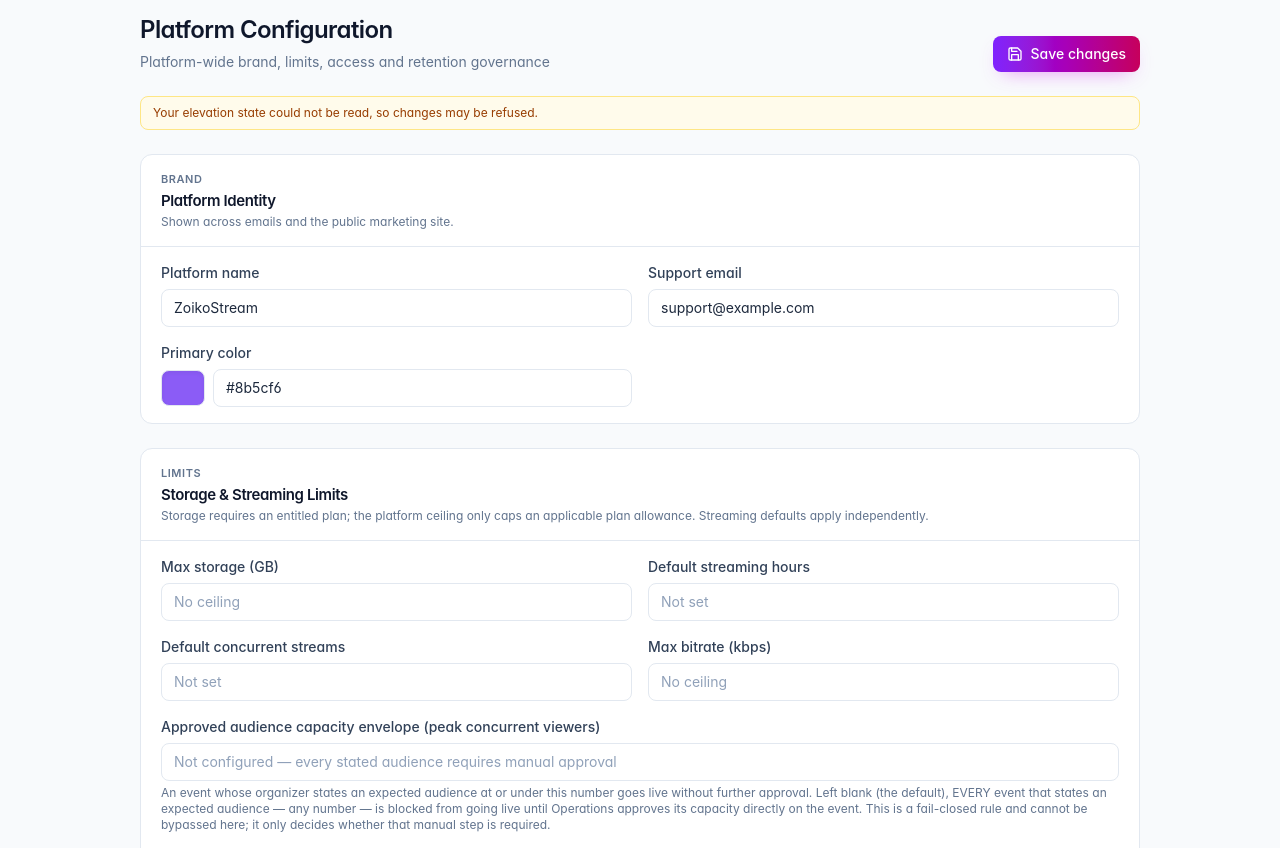
Platform Configuration primary color picker › supports keyboard changes to saturation and brightness
Click the button named "Choose primary color". click: {"x": 183, "y": 388}
box: x1=161 y1=370 x2=205 y2=406
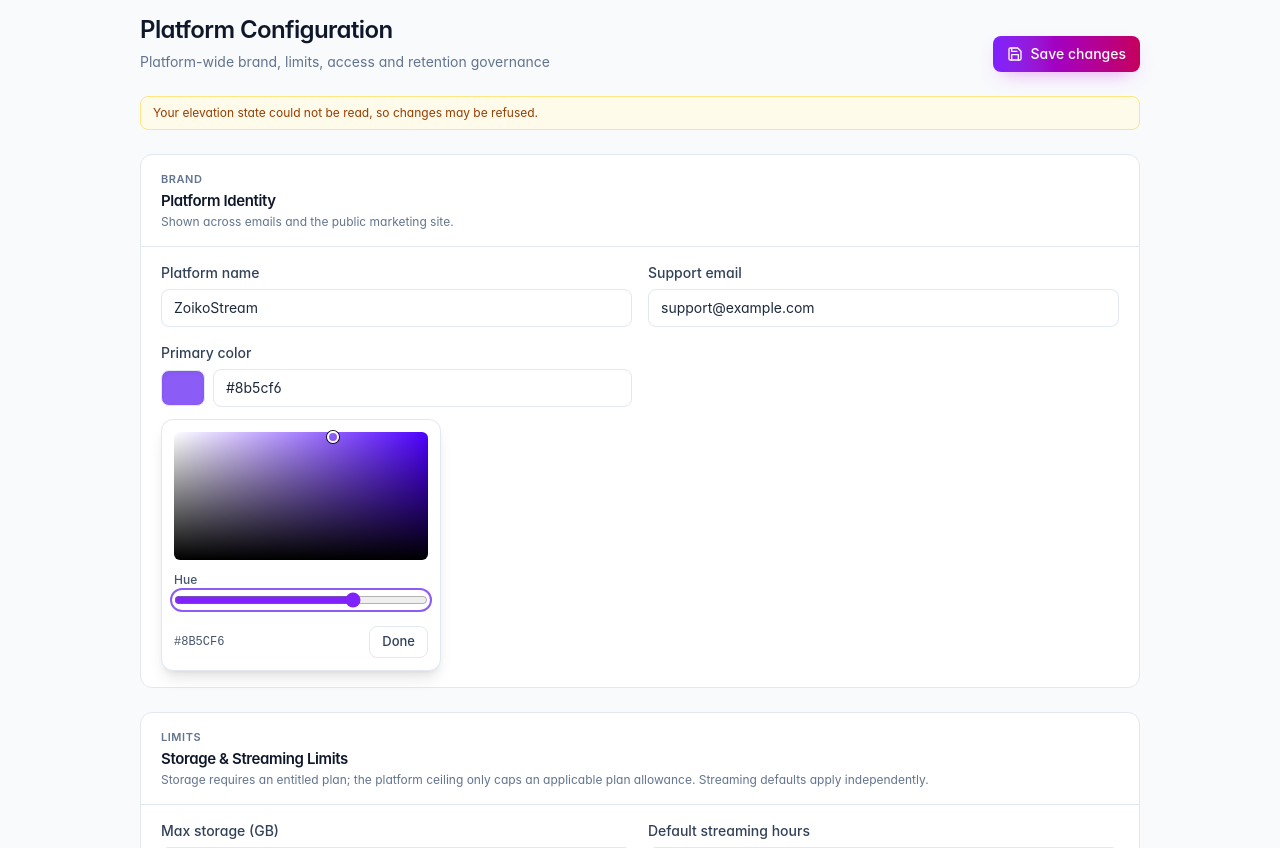
Press ArrowUp in the slider named "Color saturation and brightness", box x1=174 y1=432 x2=428 y2=560
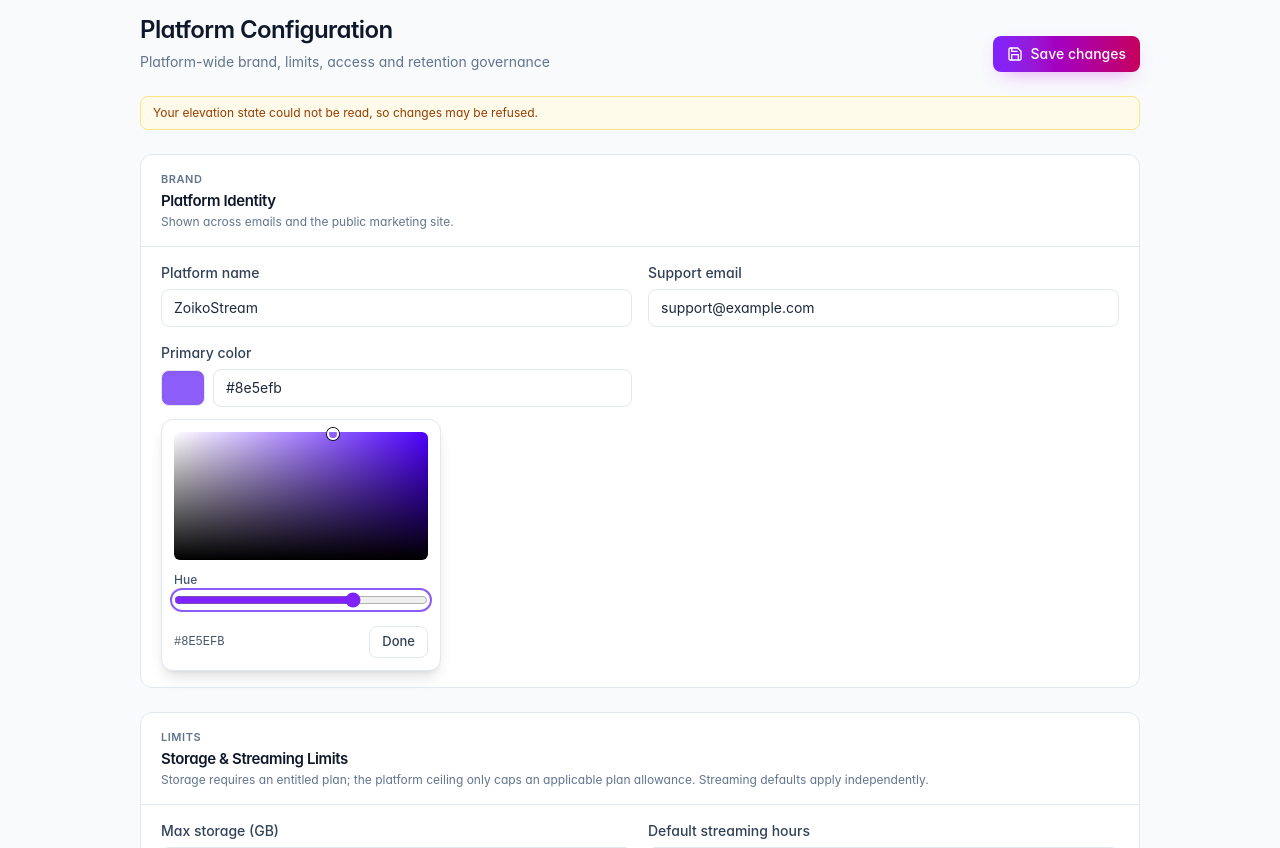
Expected: the field named "Primary color hex value" does not hold "#8b5cf6", x1=213 y1=369 x2=632 y2=407
